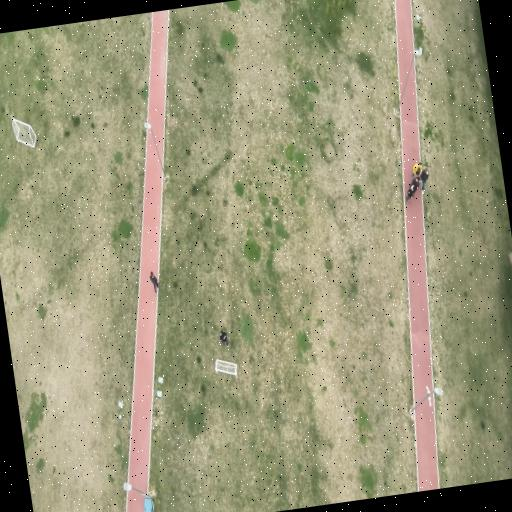person: (406, 177, 419, 200), (419, 168, 428, 191), (150, 272, 157, 293), (219, 331, 228, 347), (412, 162, 422, 176)
